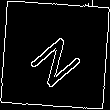N_NE: (23, 23, 87, 87)
